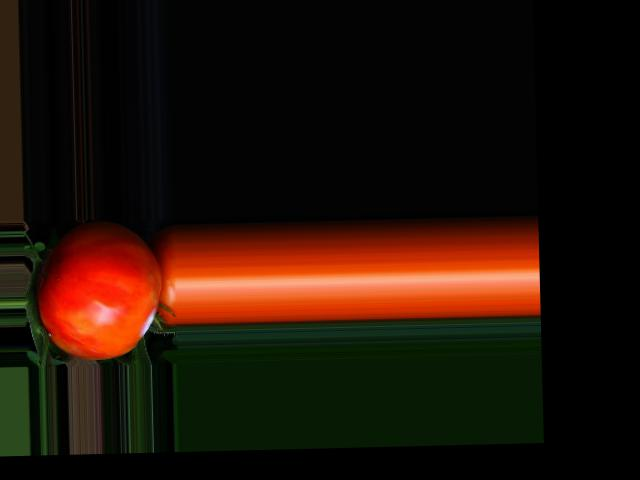tomato: (36, 219, 162, 360)
